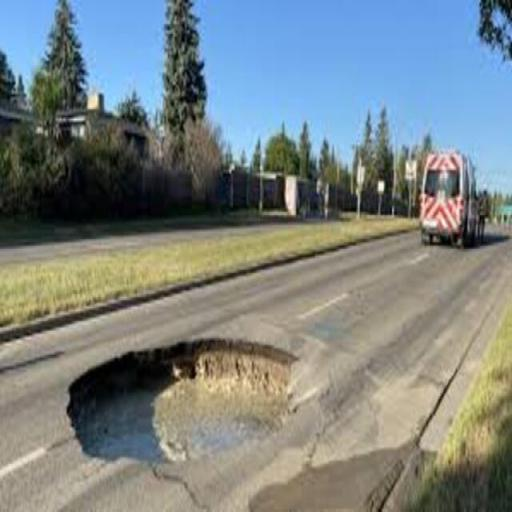Concentric_Crack: (68, 339, 295, 461)
